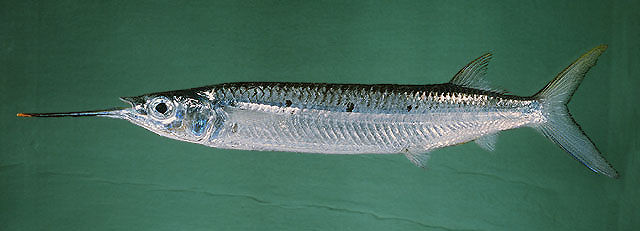fish: (14, 44, 623, 181)
